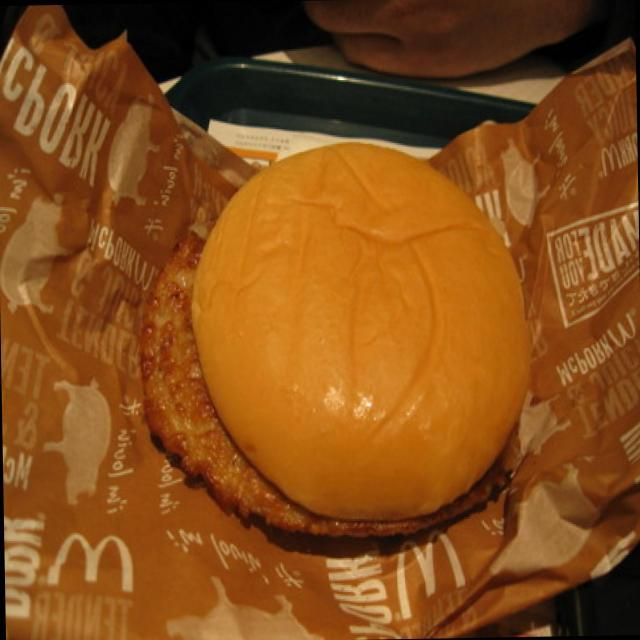Hamburger: (172, 135, 536, 554)
